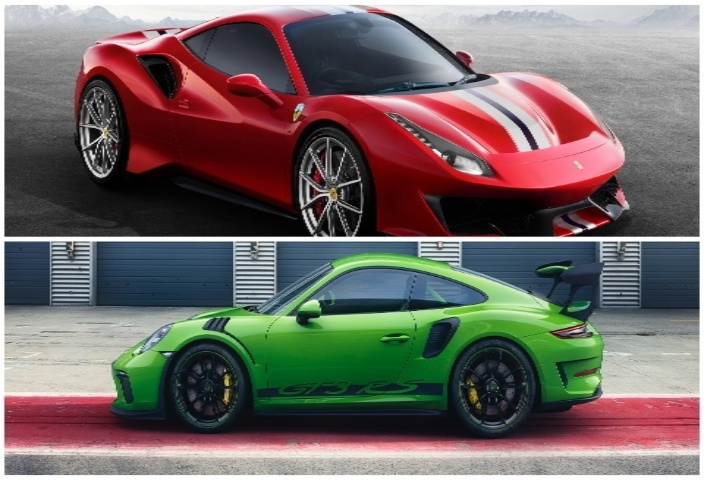car: (62, 8, 635, 239), (96, 247, 621, 451)
